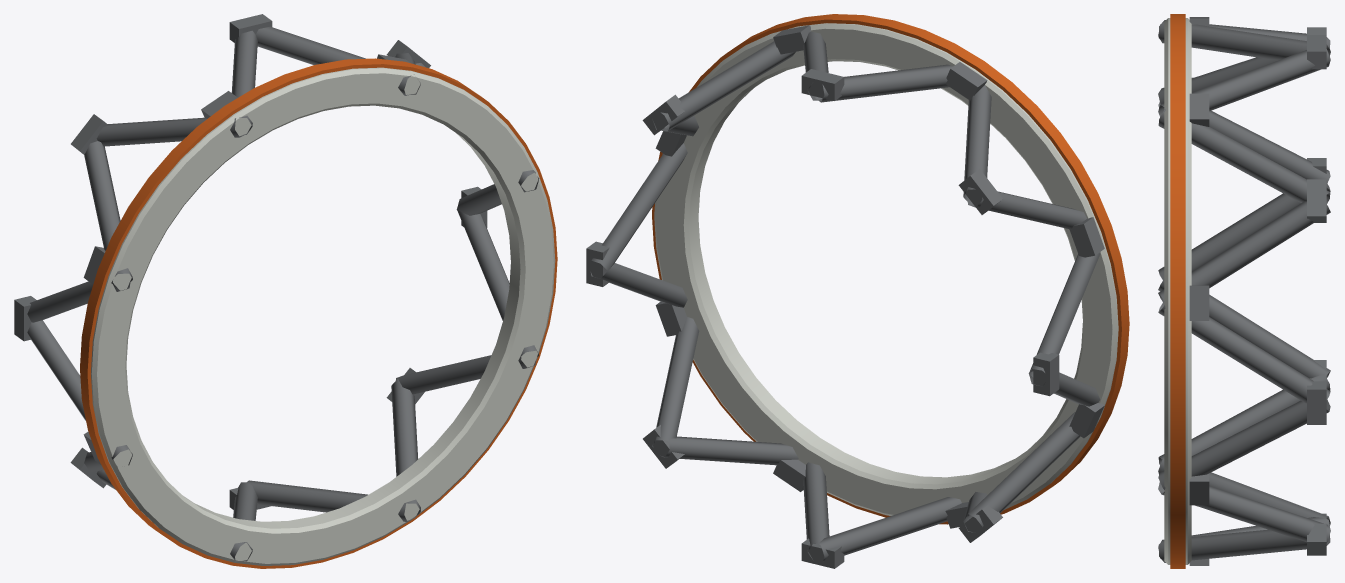
Rendered from u33_interstage.obj.
The picture shows the model from 3 angles, left to right: view 1: azimuth 30°, elevation 25°; view 2: azimuth 150°, elevation 25°; view 3: azimuth 270°, elevation 25°; orthographic projection. The views are drawn at different scales.
Visible parts, largest first — view 1: u33_interstage; view 2: u33_interstage; view 3: u33_interstage.
Part boxes in pixels (left/top/right/bottom): u33_interstage: left=14, top=14, right=557, bottom=568; u33_interstage: left=586, top=14, right=1129, bottom=568; u33_interstage: left=1158, top=14, right=1330, bottom=568.
Bounding box in the file's own units: 2.84 × 2.84 × 0.884.
